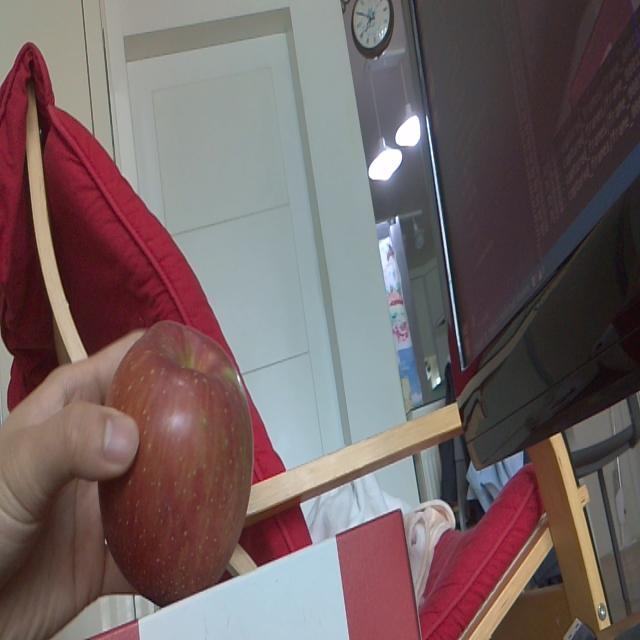apple: (101, 319, 254, 606)
